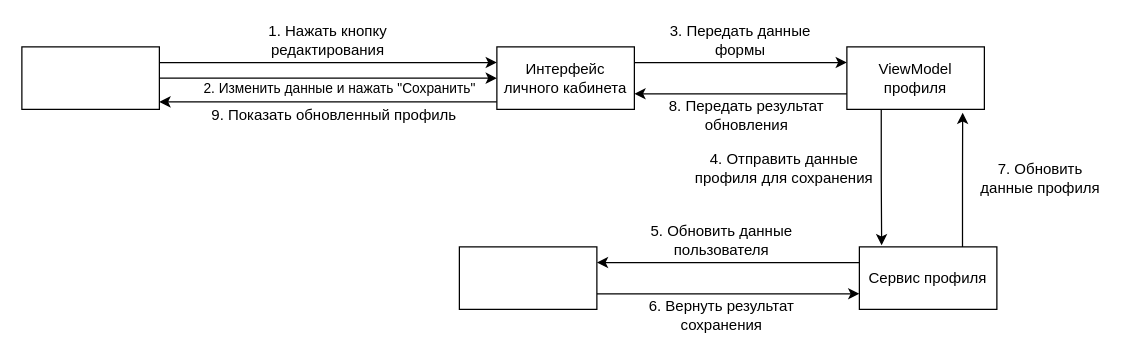
The diagram is 1131 pixels wide and 355 high, and some of its shapes have lost their labels. Each missing label, with the centre of its shape:
БД: pixel 527 277
Пользователь: pixel 90 77
